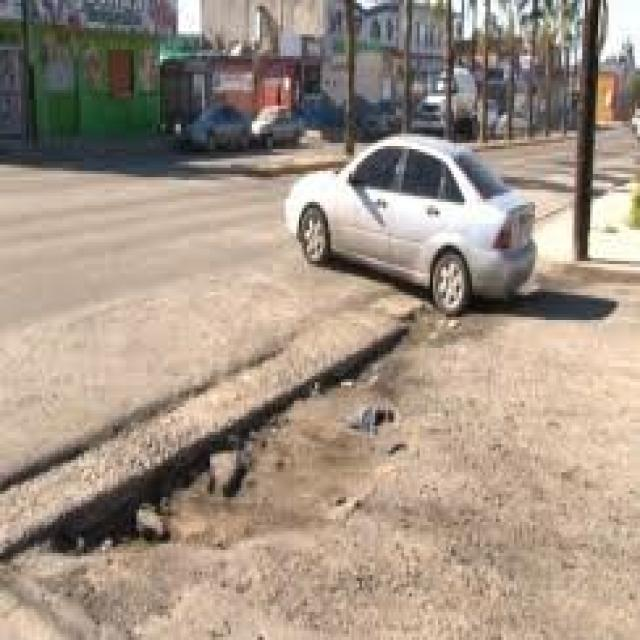Pothole: (66, 342, 554, 602)
